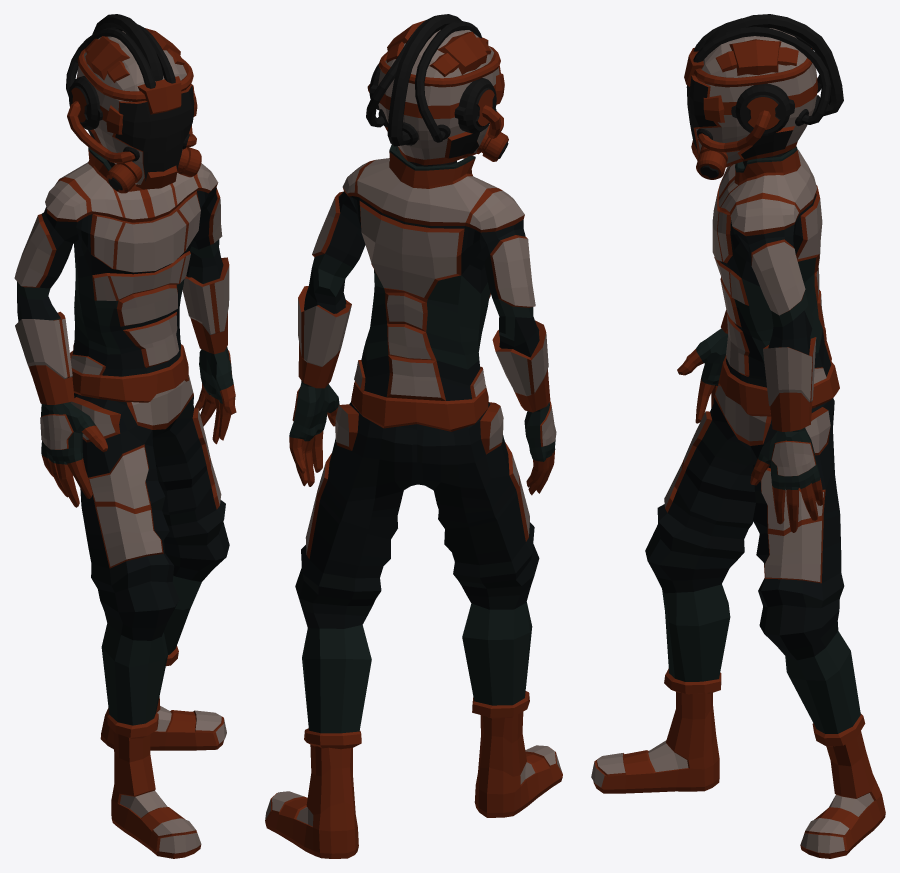
Rendered from Spacesuit.obj.
3 renders of one model, left to right at view 1: azimuth 30°, elevation 25°; view 2: azimuth 150°, elevation 25°; view 3: azimuth 270°, elevation 25°, orthographic. The views are drawn at different scales.
Parts seen in each view (by area): view 1: SpaceSuit_Body_Cube.002, SpaceSuit_Legs_Cube.046, SpaceSuit_Head_Cube.049, SpaceSuit_Feet_Cube.047; view 2: SpaceSuit_Body_Cube.002, SpaceSuit_Legs_Cube.046, SpaceSuit_Head_Cube.049, SpaceSuit_Feet_Cube.047; view 3: SpaceSuit_Legs_Cube.046, SpaceSuit_Body_Cube.002, SpaceSuit_Head_Cube.049, SpaceSuit_Feet_Cube.047.
Part boxes in pixels (x1=…): SpaceSuit_Body_Cube.002: x1=14, y1=147, x2=236, y2=507; SpaceSuit_Legs_Cube.046: x1=70, y1=375, x2=229, y2=738; SpaceSuit_Head_Cube.049: x1=66, y1=14, x2=201, y2=193; SpaceSuit_Feet_Cube.047: x1=100, y1=697, x2=226, y2=858; SpaceSuit_Body_Cube.002: x1=289, y1=144, x2=556, y2=495; SpaceSuit_Legs_Cube.046: x1=295, y1=402, x2=539, y2=749; SpaceSuit_Head_Cube.049: x1=366, y1=14, x2=508, y2=166; SpaceSuit_Feet_Cube.047: x1=265, y1=712, x2=562, y2=858; SpaceSuit_Legs_Cube.046: x1=645, y1=385, x2=865, y2=746; SpaceSuit_Body_Cube.002: x1=677, y1=146, x2=839, y2=532; SpaceSuit_Head_Cube.049: x1=684, y1=14, x2=843, y2=179; SpaceSuit_Feet_Cube.047: x1=591, y1=692, x2=885, y2=858.
Bounding box in the file's own units: 0.5929 × 1.85 × 0.6304.
